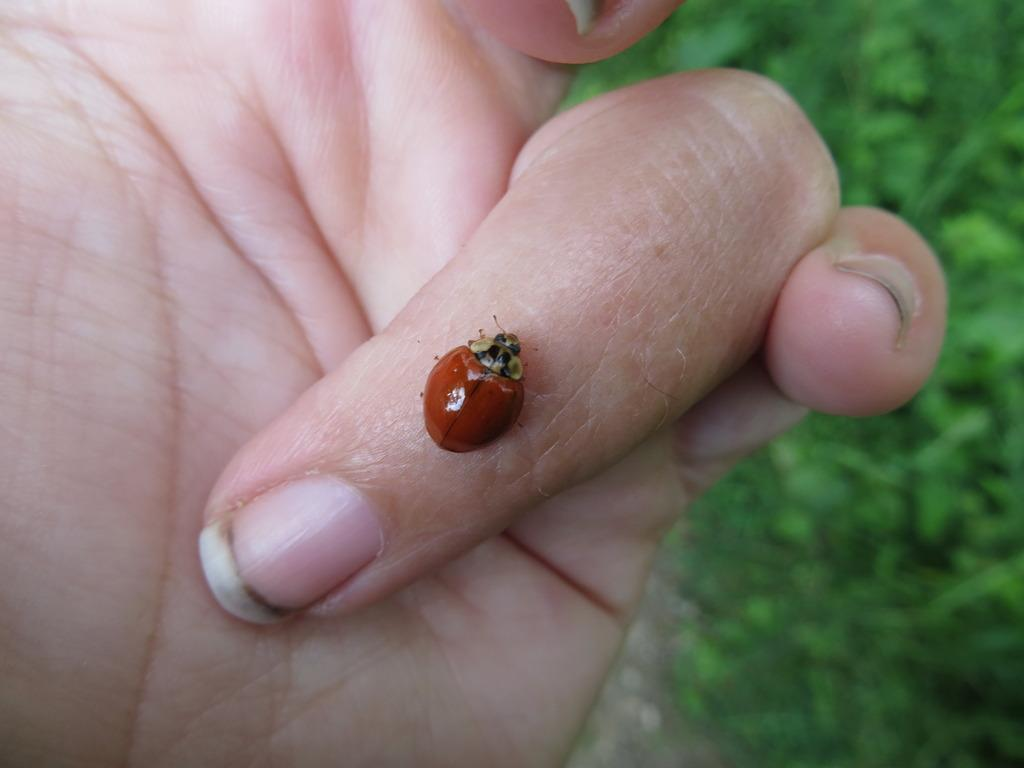ladybug: (419, 313, 545, 457)
